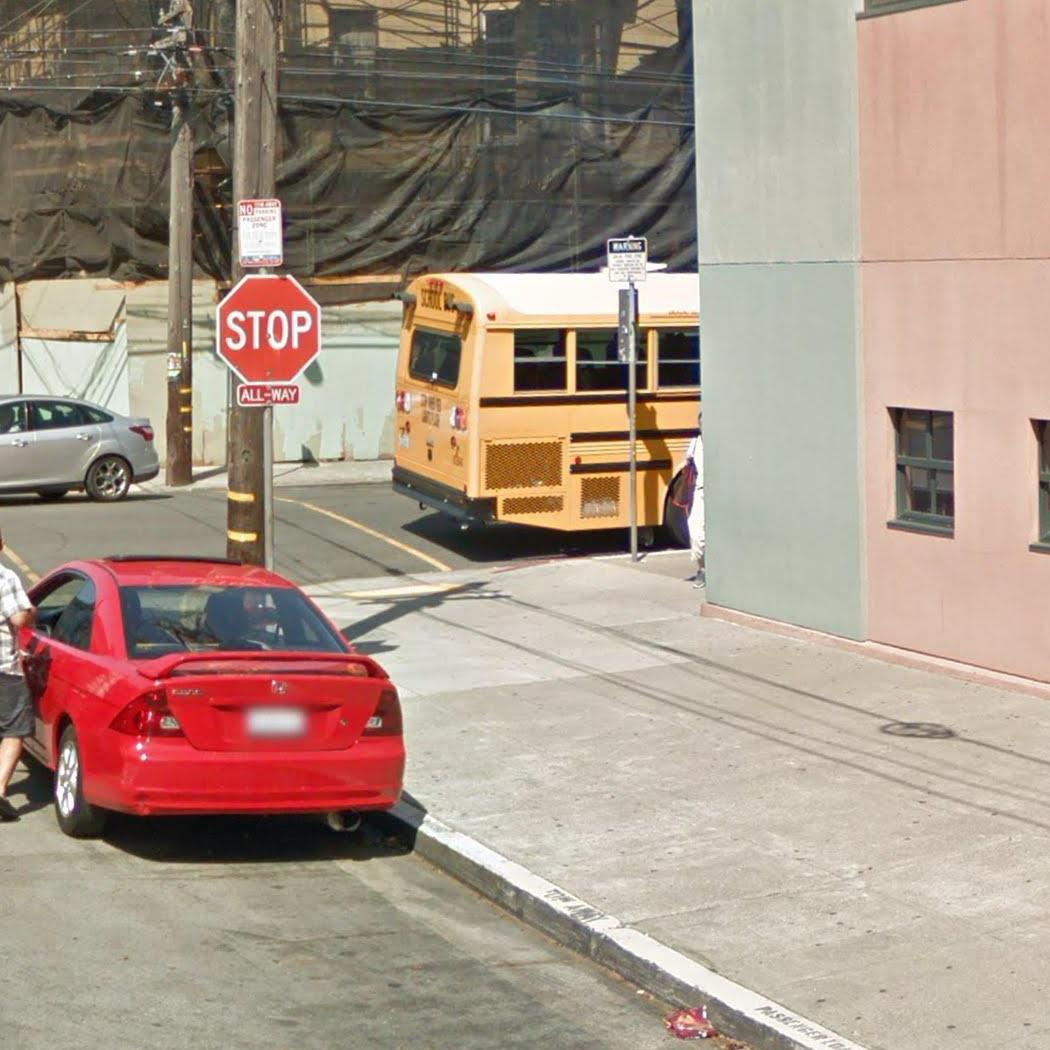No Parking: (234, 197, 284, 268)
